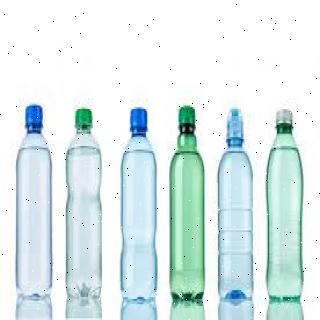Plastic-bottle: (14, 98, 57, 300), (264, 109, 308, 304), (119, 105, 160, 305), (167, 103, 207, 307), (216, 105, 256, 303), (65, 105, 104, 302)
